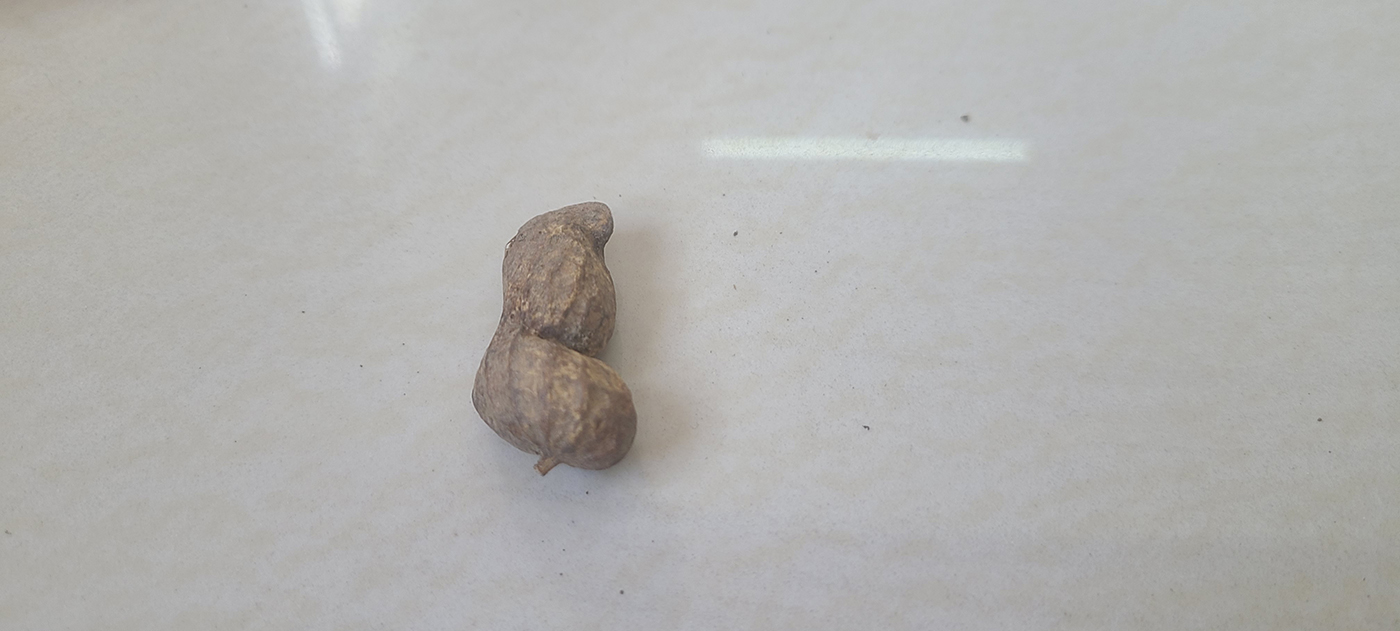l: (472, 202, 638, 474)
